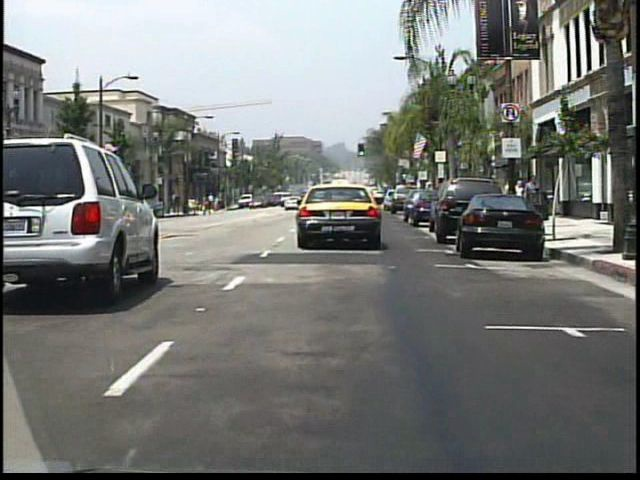person: (523, 172, 542, 222), (512, 179, 525, 216), (219, 195, 227, 211)
